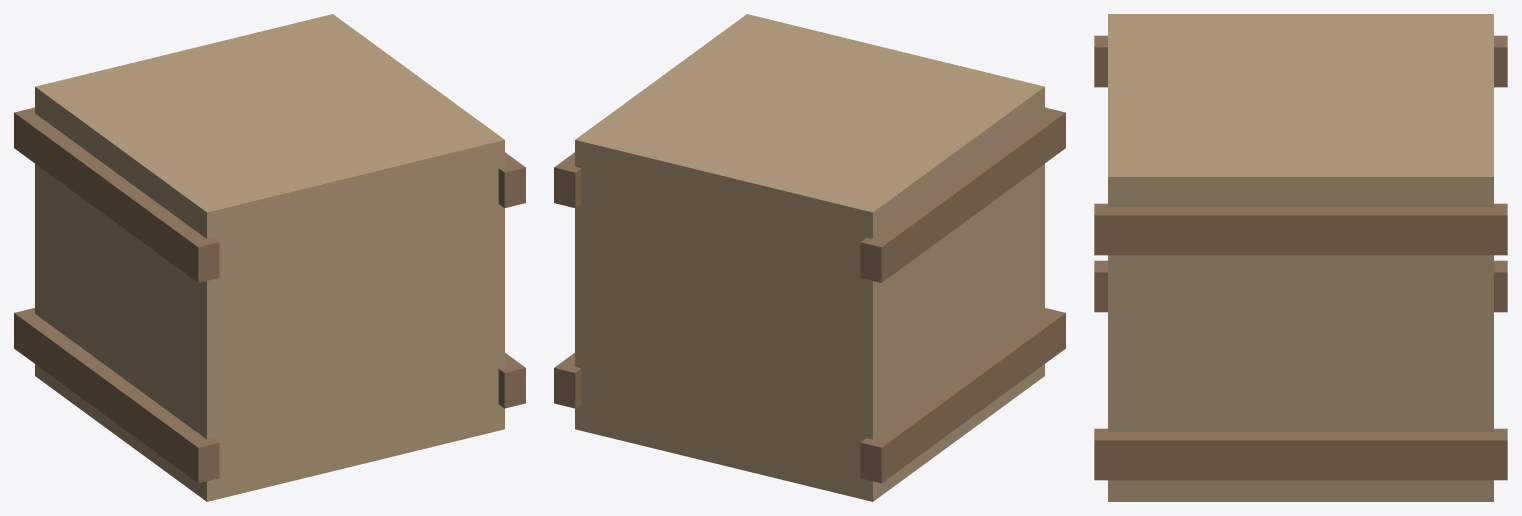
The model's file is crate.glb.
3 renders of one model, left to right at view 1: azimuth 30°, elevation 25°; view 2: azimuth 150°, elevation 25°; view 3: azimuth 270°, elevation 25°, orthographic. The views are drawn at different scales.
Parts seen in each view (by area): view 1: Crate, Batten, Batten.001, Batten.002, Batten.003; view 2: Crate, Batten, Batten.001, Batten.002, Batten.003; view 3: Crate, Batten.002, Batten.003, Batten, Batten.001.
Boxes of the visible parts, bbox=[...] form: Crate: bbox=[35, 14, 504, 501]; Batten: bbox=[14, 308, 219, 483]; Batten.001: bbox=[14, 107, 219, 282]; Batten.002: bbox=[498, 353, 525, 408]; Batten.003: bbox=[498, 152, 525, 207]; Crate: bbox=[575, 14, 1044, 501]; Batten: bbox=[860, 308, 1065, 483]; Batten.001: bbox=[860, 107, 1065, 282]; Batten.002: bbox=[554, 353, 581, 408]; Batten.003: bbox=[554, 152, 581, 207]; Crate: bbox=[1108, 14, 1493, 501]; Batten.002: bbox=[1094, 428, 1507, 480]; Batten.003: bbox=[1094, 203, 1507, 255]; Batten: bbox=[1094, 260, 1507, 312]; Batten.001: bbox=[1094, 35, 1507, 87].
Size of the model in its own units: 0.77 by 0.65 by 0.75.
